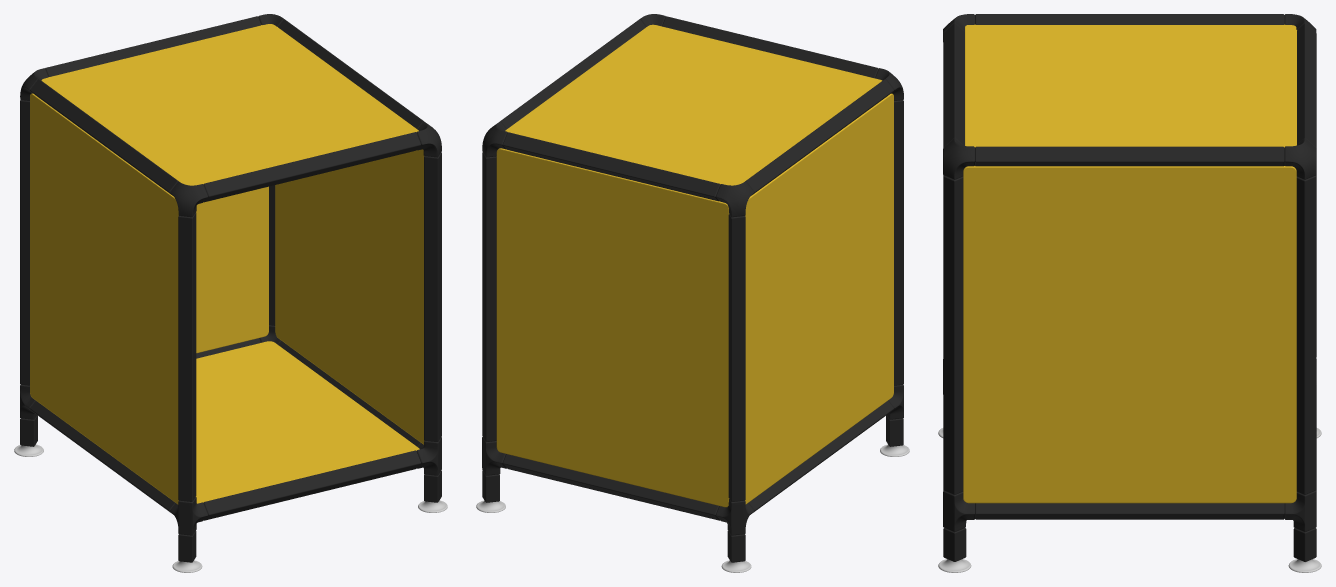
3 renders of one model, left to right at view 1: azimuth 30°, elevation 25°; view 2: azimuth 150°, elevation 25°; view 3: azimuth 270°, elevation 25°, orthographic. The views are drawn at different scales.
Parts seen in each view (by area): view 1: 329x374x420; view 2: 329x374x420; view 3: 329x374x420.
Boxes of the visible parts, left/top/right/bottom form: 329x374x420: left=14, top=14, right=447, bottom=572; 329x374x420: left=476, top=14, right=909, bottom=572; 329x374x420: left=938, top=14, right=1321, bottom=572.
Size of the model in its own units: 0.4189 by 0.5593 by 0.4632.
